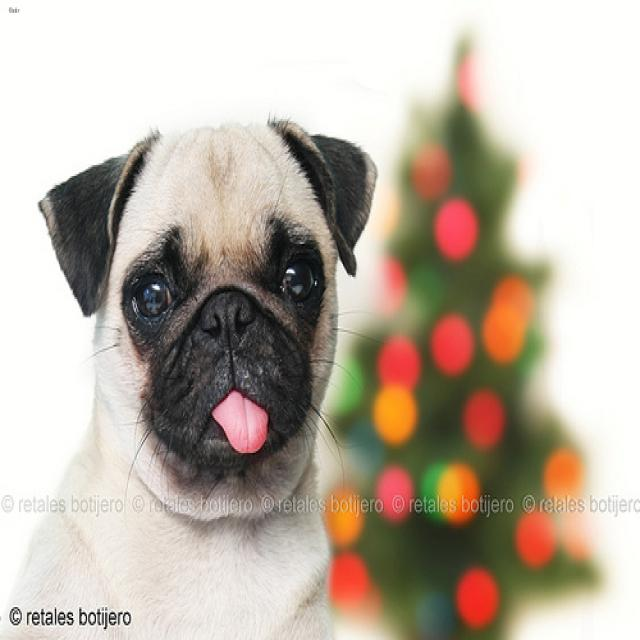dog-pug: (1, 106, 388, 636)
